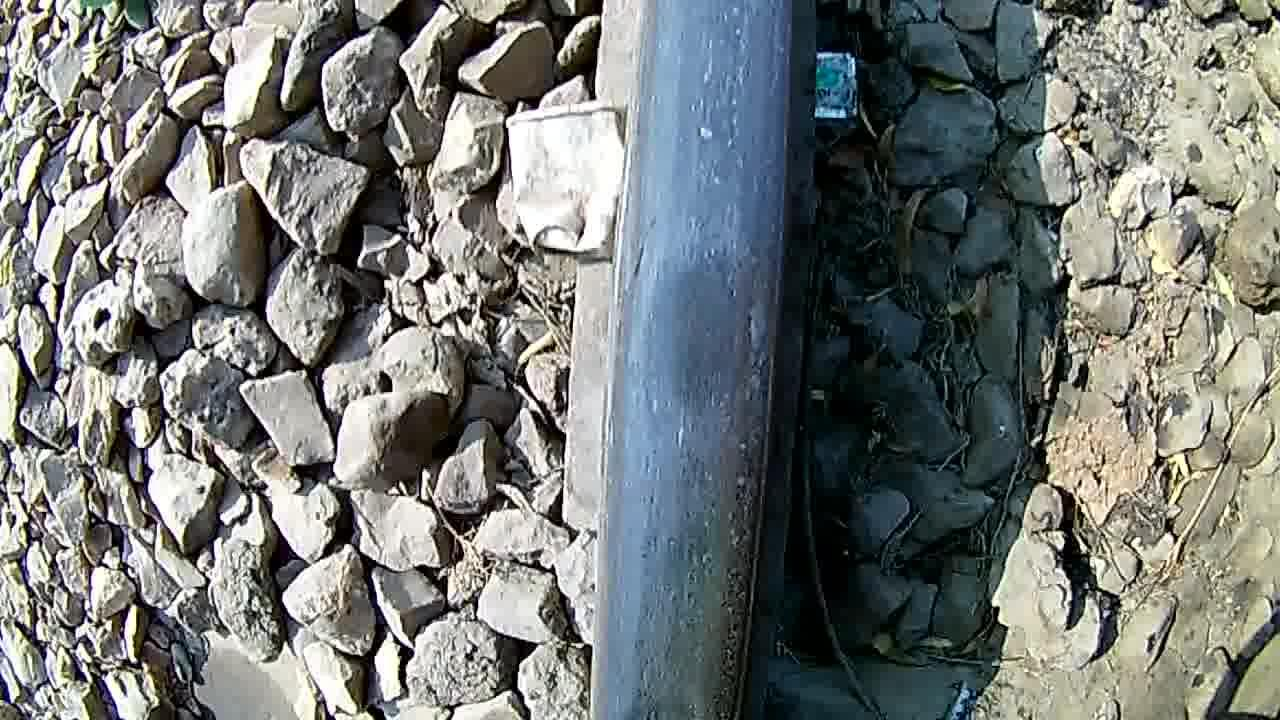bolt_missing: (633, 196, 793, 583)
